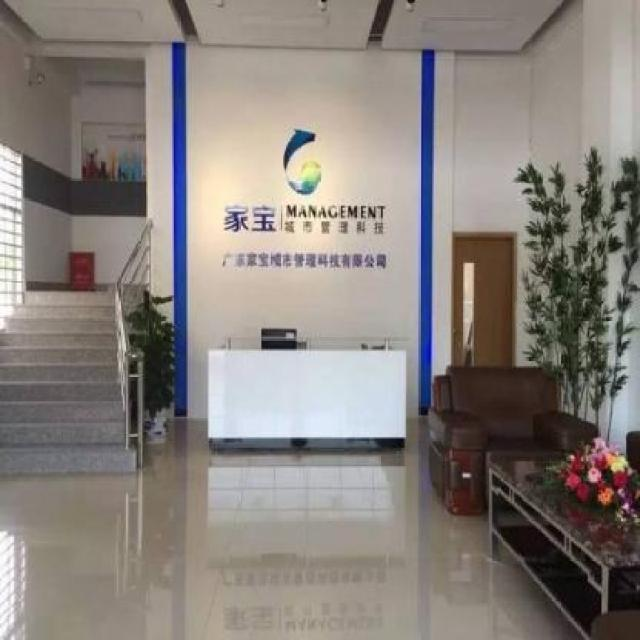frontdesk: (203, 328, 415, 466)
